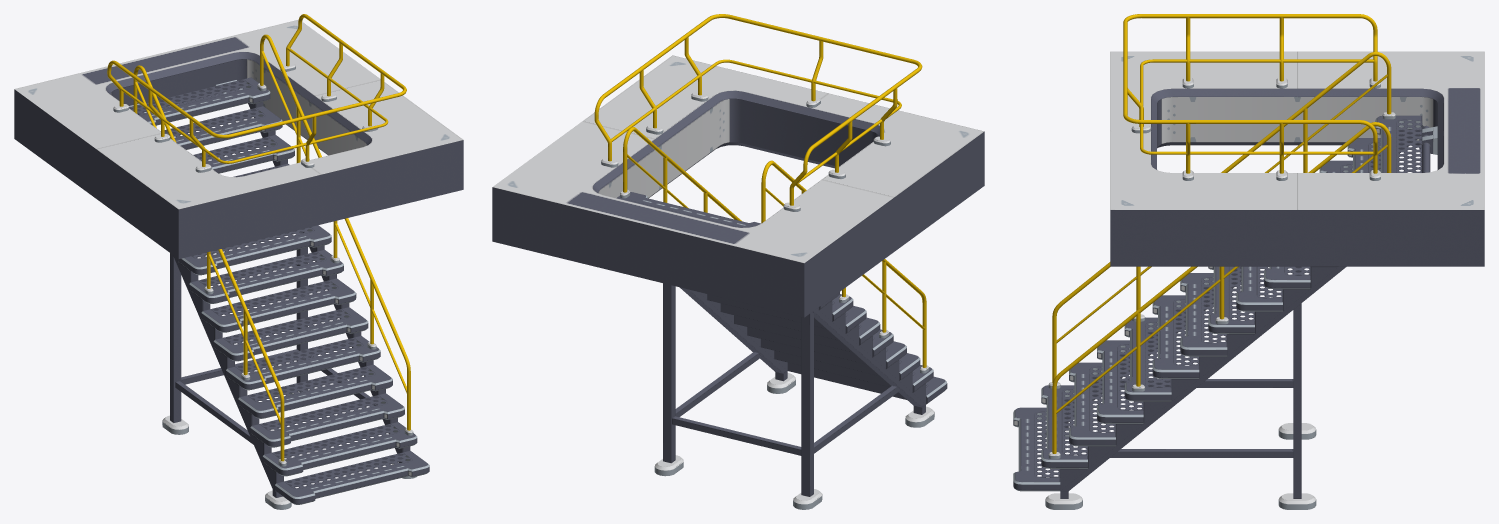
File: Floor_09.FBX
The picture shows the model from 3 angles, left to right: view 1: azimuth 30°, elevation 25°; view 2: azimuth 150°, elevation 25°; view 3: azimuth 270°, elevation 25°; orthographic projection. The views are drawn at different scales.
Parts seen in each view (by area): view 1: Floor_09, Stair; view 2: Floor_09, Stair; view 3: Floor_09, Stair.
Boxes of the visible parts, left/top/right/bottom form: Floor_09: left=14, top=14, right=463, bottom=258; Stair: left=129, top=34, right=429, bottom=509; Floor_09: left=492, top=14, right=984, bottom=317; Stair: left=616, top=127, right=947, bottom=509; Floor_09: left=1110, top=14, right=1484, bottom=266; Stair: left=1013, top=52, right=1424, bottom=509.
Size of the model in its own units: 6 by 7.13 by 7.55.
